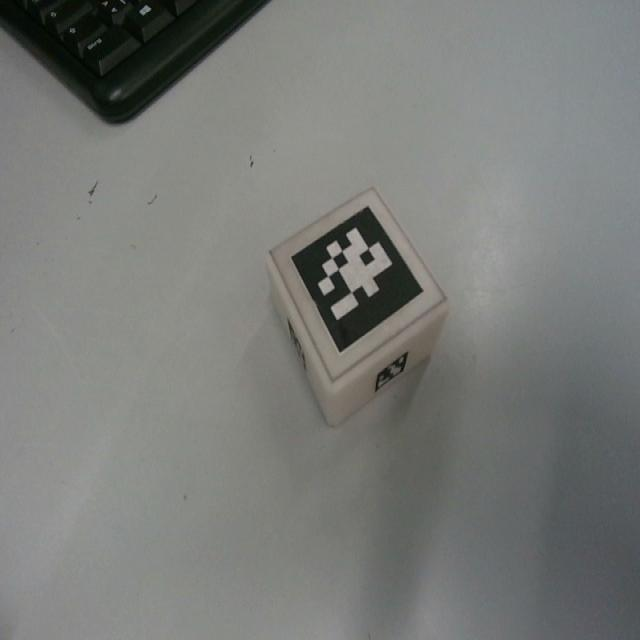Cube: (264, 184, 449, 427)
